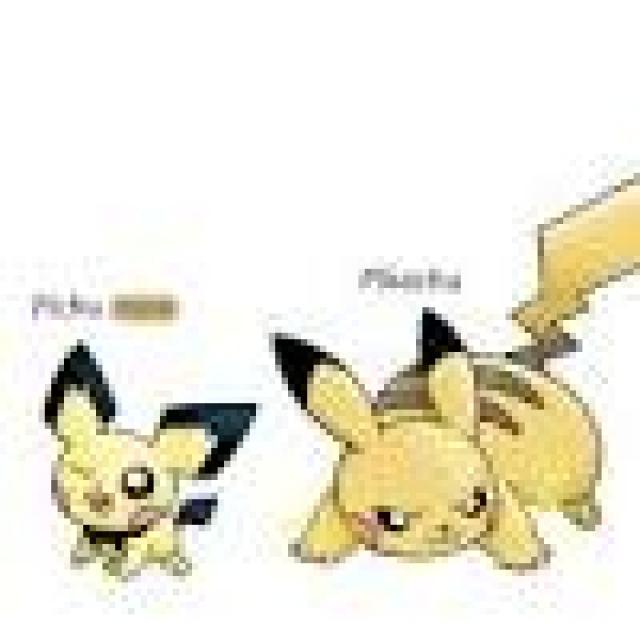pichu: (30, 340, 249, 580)
